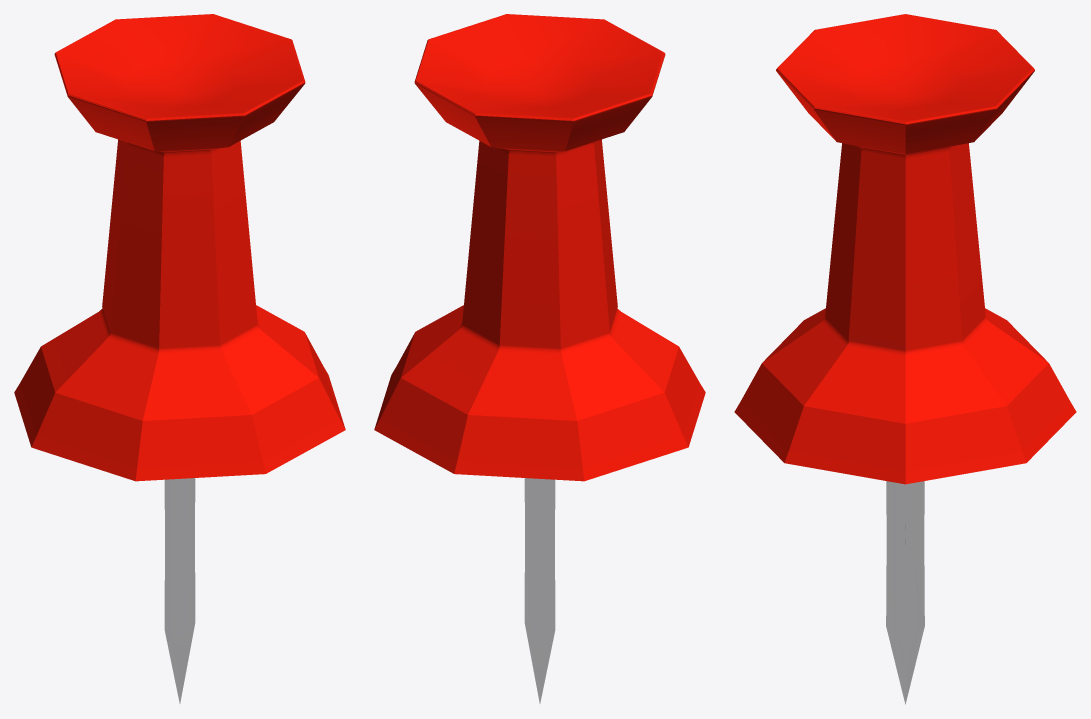
3 renders of one model, left to right at view 1: azimuth 30°, elevation 25°; view 2: azimuth 150°, elevation 25°; view 3: azimuth 270°, elevation 25°, orthographic.
Visible parts, largest first — view 1: push-pins-1; view 2: push-pins-1; view 3: push-pins-1.
Boxes of the visible parts, x1,y1,x2,y2 form: push-pins-1: (14,14,345,702); push-pins-1: (374,14,705,702); push-pins-1: (734,14,1076,703).
Size of the model in its own units: 3.91 by 8.02 by 3.91.
